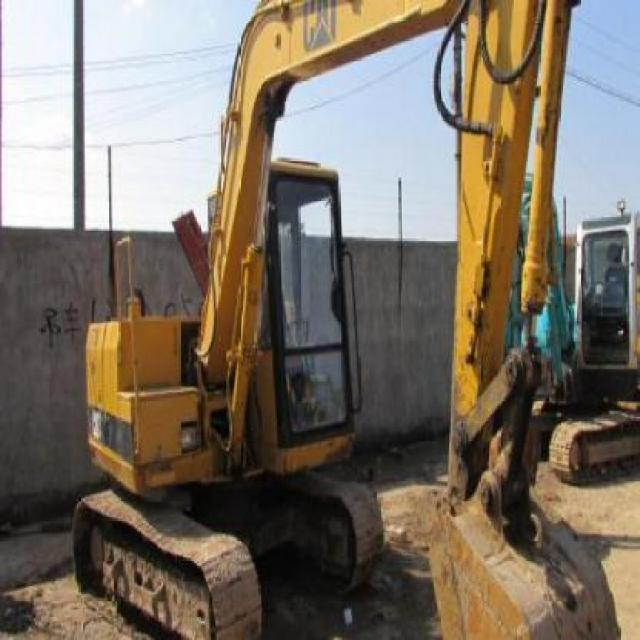Excavator: (68, 0, 622, 638)
